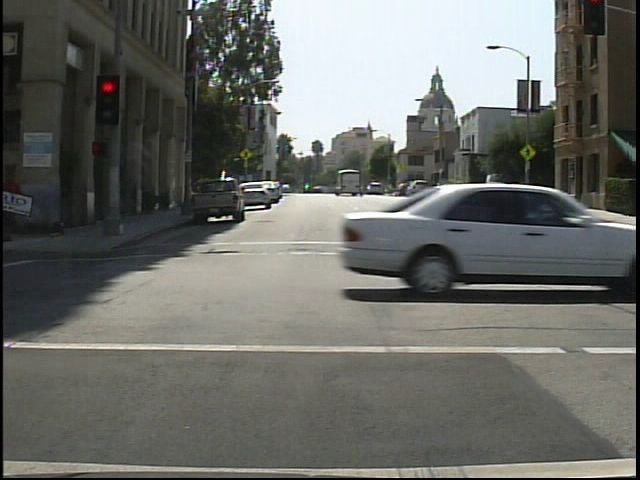person: (5, 156, 27, 243)
